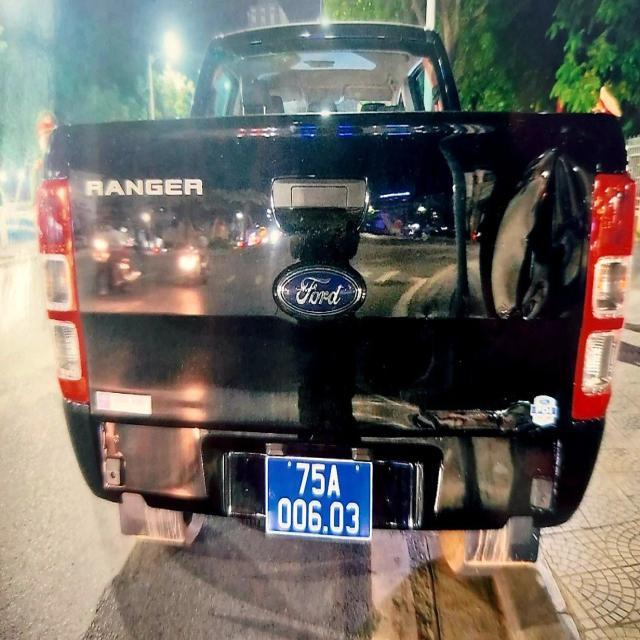car: (35, 20, 640, 572)
plate: (259, 452, 377, 544)
